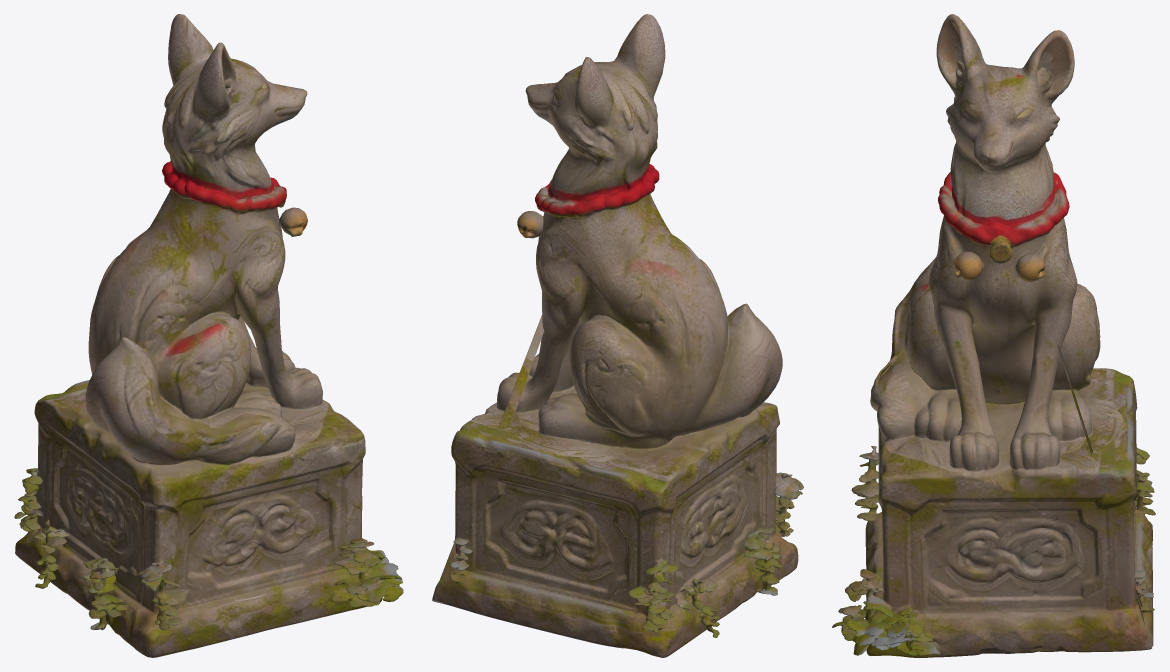
File: shihu-tripo.glb
The picture shows the model from 3 angles, left to right: view 1: azimuth 30°, elevation 25°; view 2: azimuth 150°, elevation 25°; view 3: azimuth 270°, elevation 25°; orthographic projection. The views are drawn at different scales.
Visible parts, largest first — view 1: tripo_node_a3af267e-f60d-4940-b36a-4d15012802ab; view 2: tripo_node_a3af267e-f60d-4940-b36a-4d15012802ab; view 3: tripo_node_a3af267e-f60d-4940-b36a-4d15012802ab.
Part boxes in pixels (bbox=[...]): tripo_node_a3af267e-f60d-4940-b36a-4d15012802ab: bbox=[14, 14, 403, 657]; tripo_node_a3af267e-f60d-4940-b36a-4d15012802ab: bbox=[432, 14, 803, 657]; tripo_node_a3af267e-f60d-4940-b36a-4d15012802ab: bbox=[832, 14, 1155, 657].
Bounding box in the file's own units: 0.5136 × 0.9996 × 0.504.
Materials: 1 (1 with a texture image).
